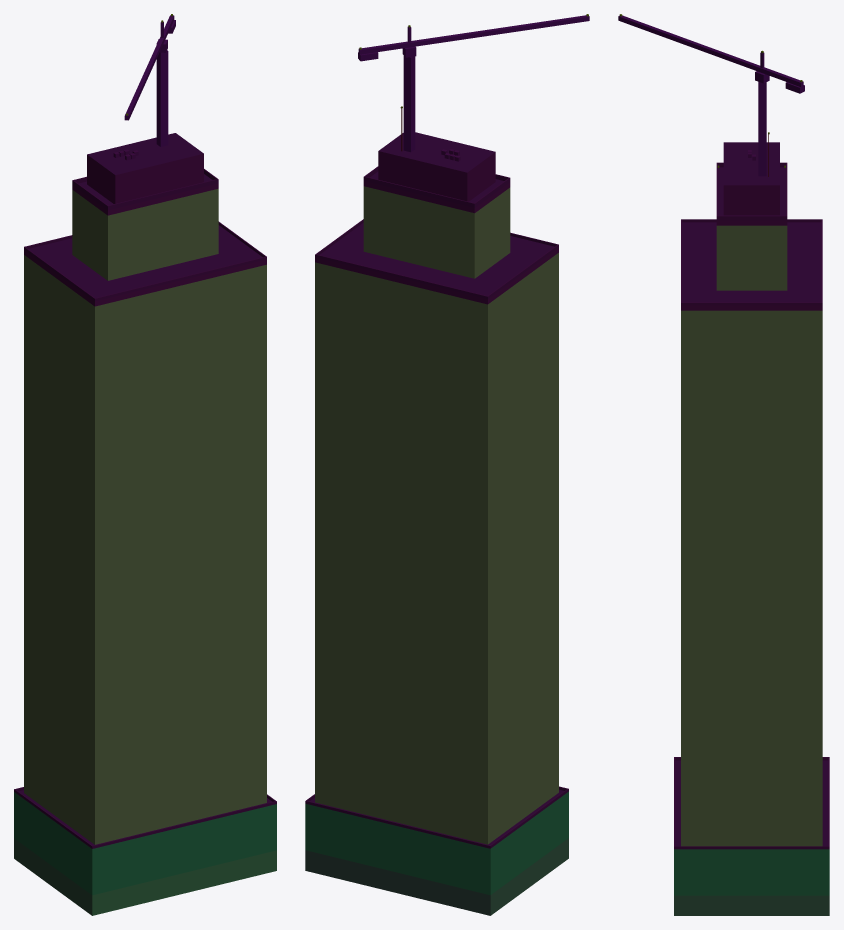
File: tower_d.glb
3 renders of one model, left to right at view 1: azimuth 30°, elevation 25°; view 2: azimuth 150°, elevation 25°; view 3: azimuth 270°, elevation 25°, orthographic.
Parts seen in each view (by area): view 1: tower_d; view 2: tower_d; view 3: tower_d.
Boxes of the visible parts, box(x1,y1,x2,y2) form: tower_d: box(14, 14, 276, 915); tower_d: box(305, 14, 589, 915); tower_d: box(618, 14, 829, 915).
Bounding box in the file's own units: 45.01 × 194 × 44.82.
